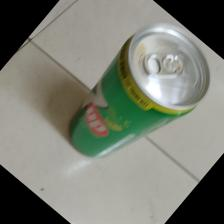7up: (67, 25, 211, 160)
